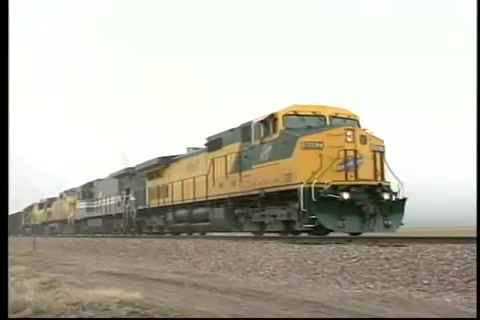train: (11, 103, 407, 241)
